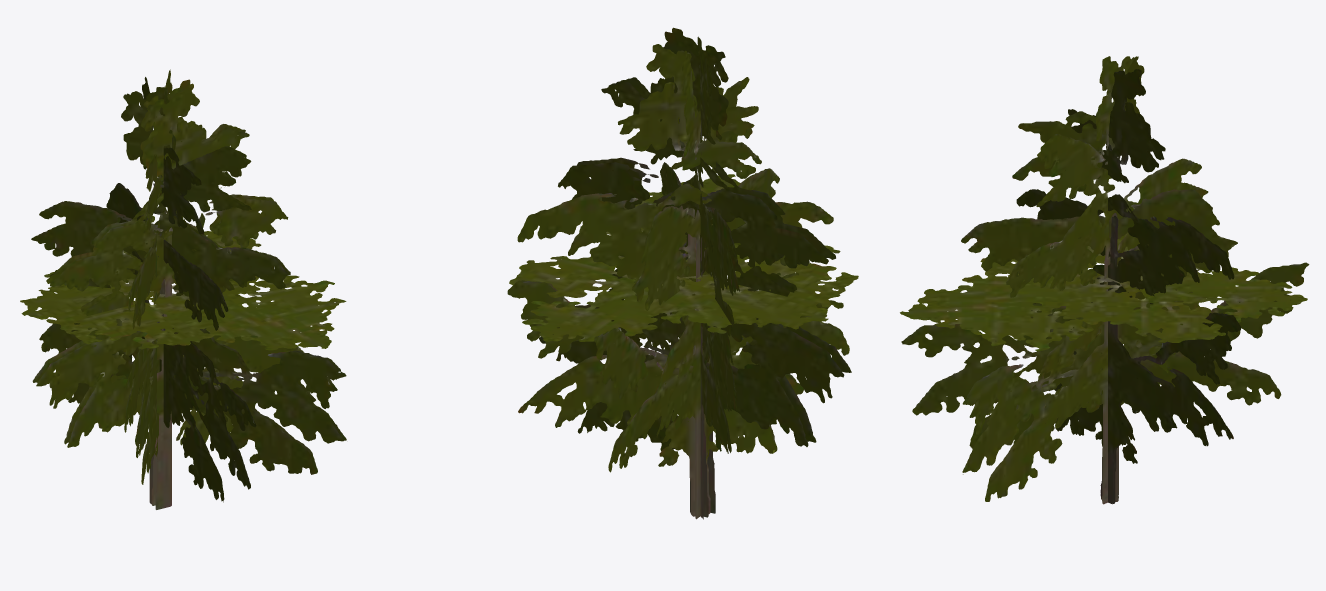
File: maple_s1_lod.glb
The picture shows the model from 3 angles, left to right: view 1: azimuth 30°, elevation 25°; view 2: azimuth 150°, elevation 25°; view 3: azimuth 270°, elevation 25°; orthographic projection. The views are drawn at different scales.
Visible parts, largest first — view 1: Acer_small_1_Billboard_LOD3_Acer_small_1_Billboard_Mat_0; view 2: Acer_small_1_Billboard_LOD3_Acer_small_1_Billboard_Mat_0; view 3: Acer_small_1_Billboard_LOD3_Acer_small_1_Billboard_Mat_0.
Boxes of the visible parts, left/top/right/bottom form: Acer_small_1_Billboard_LOD3_Acer_small_1_Billboard_Mat_0: left=20, top=69, right=346, bottom=509; Acer_small_1_Billboard_LOD3_Acer_small_1_Billboard_Mat_0: left=507, top=27, right=858, bottom=519; Acer_small_1_Billboard_LOD3_Acer_small_1_Billboard_Mat_0: left=900, top=56, right=1309, bottom=504.
Bounding box in the file's own units: 4.79 × 7 × 5.89.
1 material, 1 textured.
